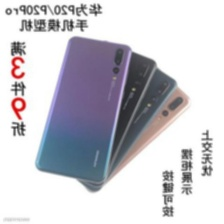phone: (40, 36, 160, 189), (53, 57, 180, 192), (63, 71, 192, 193), (34, 33, 132, 184)
